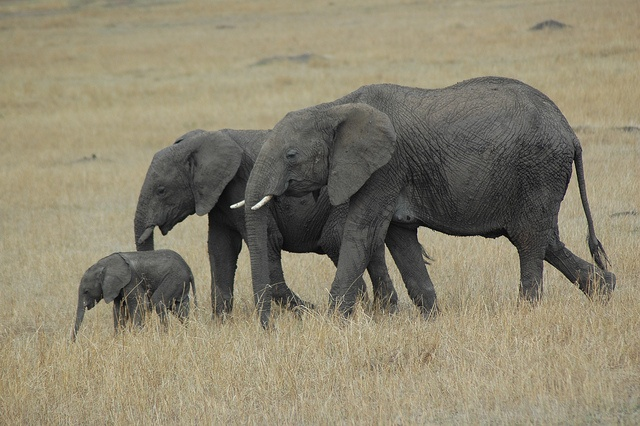elephant: (230, 75, 618, 334), (134, 128, 442, 323), (70, 249, 196, 342)
